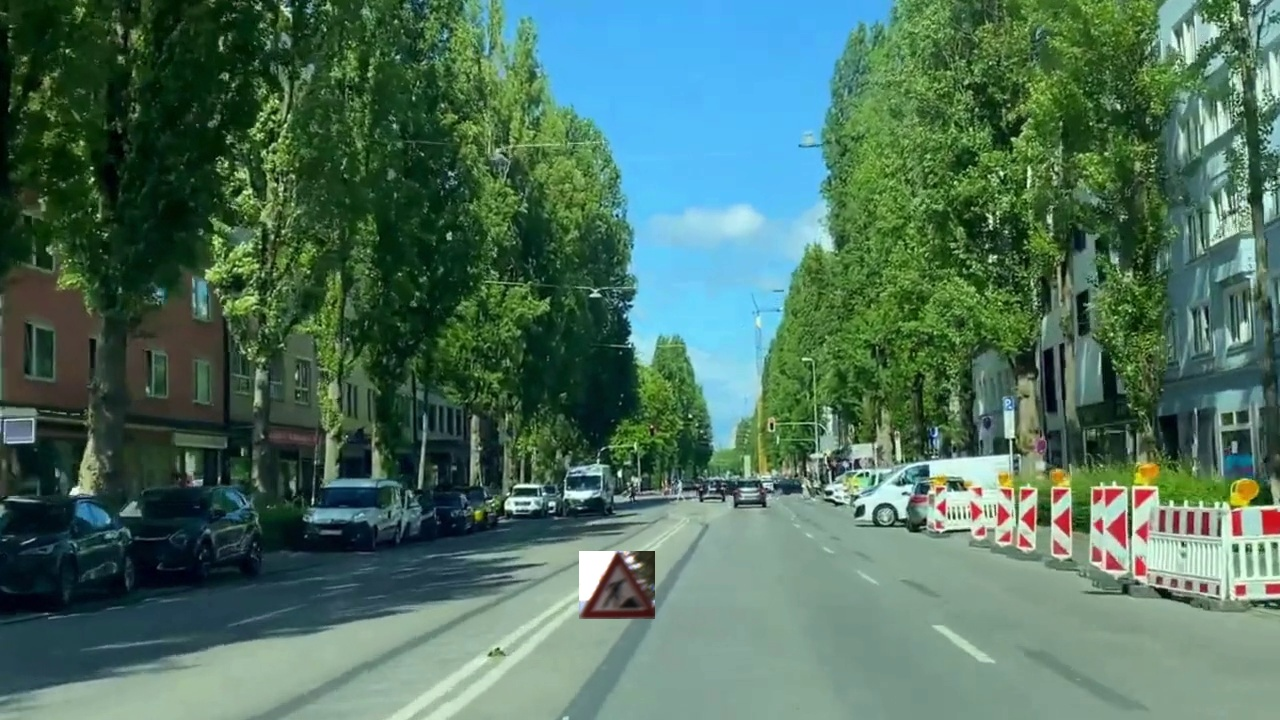Road work: (579, 551, 655, 619)
